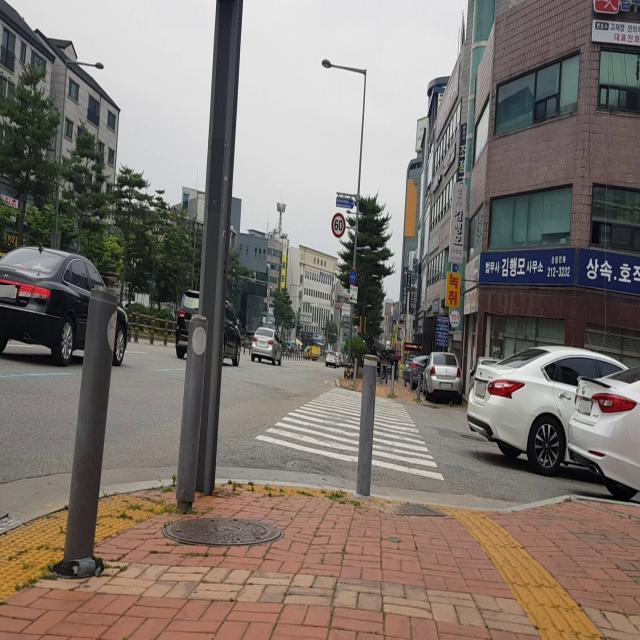횡단보도: (253, 384, 445, 483)
